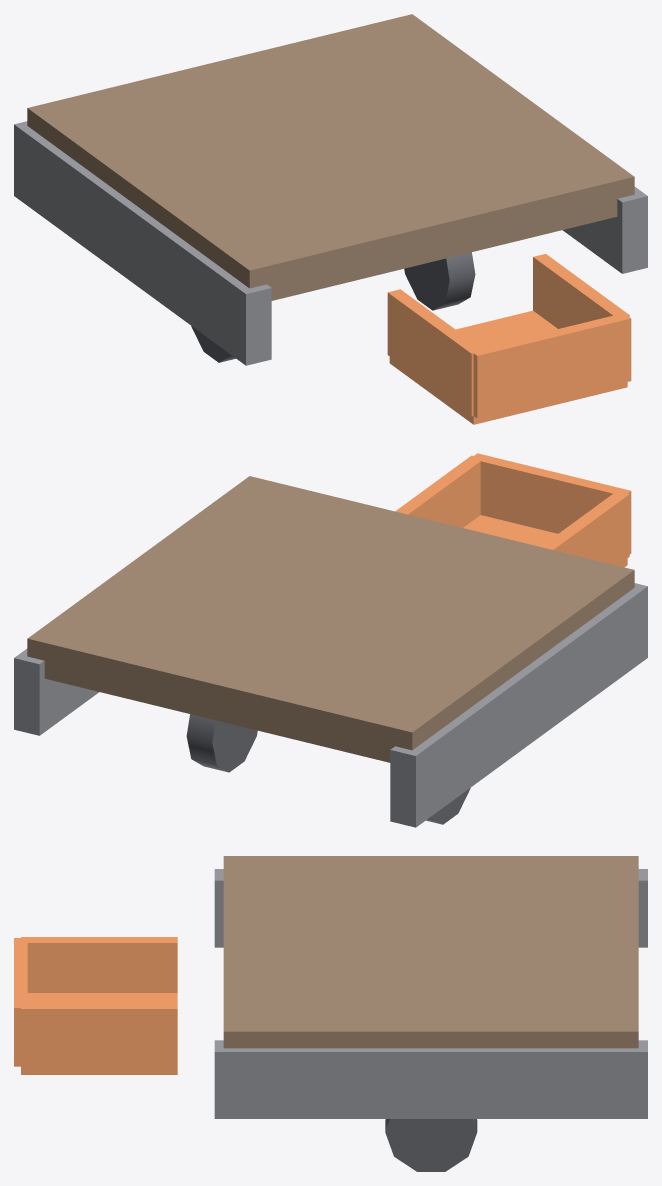
Rendered from build_minecart_1.glb.
The picture shows the model from 3 angles, top to bottom: view 1: azimuth 30°, elevation 25°; view 2: azimuth 150°, elevation 25°; view 3: azimuth 270°, elevation 25°; orthographic projection. The views are drawn at different scales.
Visible parts, largest first — view 1: Baked; view 2: Baked; view 3: Baked.
Part boxes in pixels (x1=…): Baked: x1=14, y1=14, x2=647, y2=424; Baked: x1=14, y1=453, x2=647, y2=827; Baked: x1=14, y1=856, x2=647, y2=1171.
Size of the model in its own units: 0.94 by 0.4151 by 1.37.
